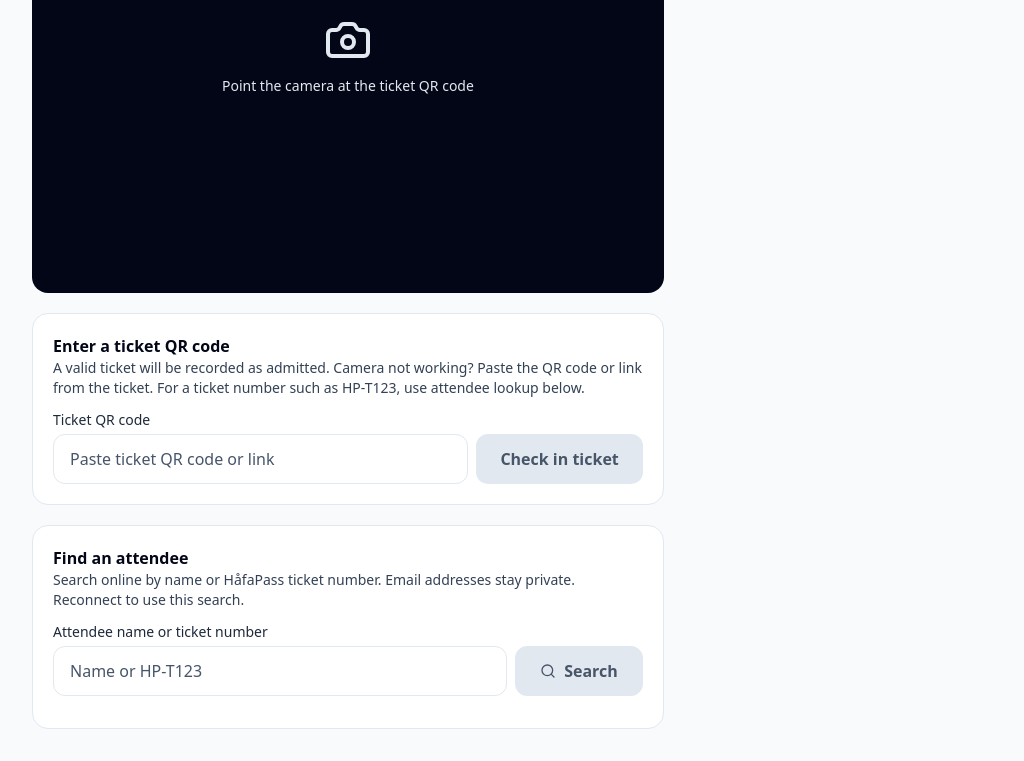
Test: scanner recovery and camera ownership › retains signed offline provisional admission without claiming a server acknowledgement
The image size is (1024, 761).
(page scrolled)
Step 1. Type "offline-qr" into the field labelled "Ticket QR code" → (261, 459), box [53,434,468,484]
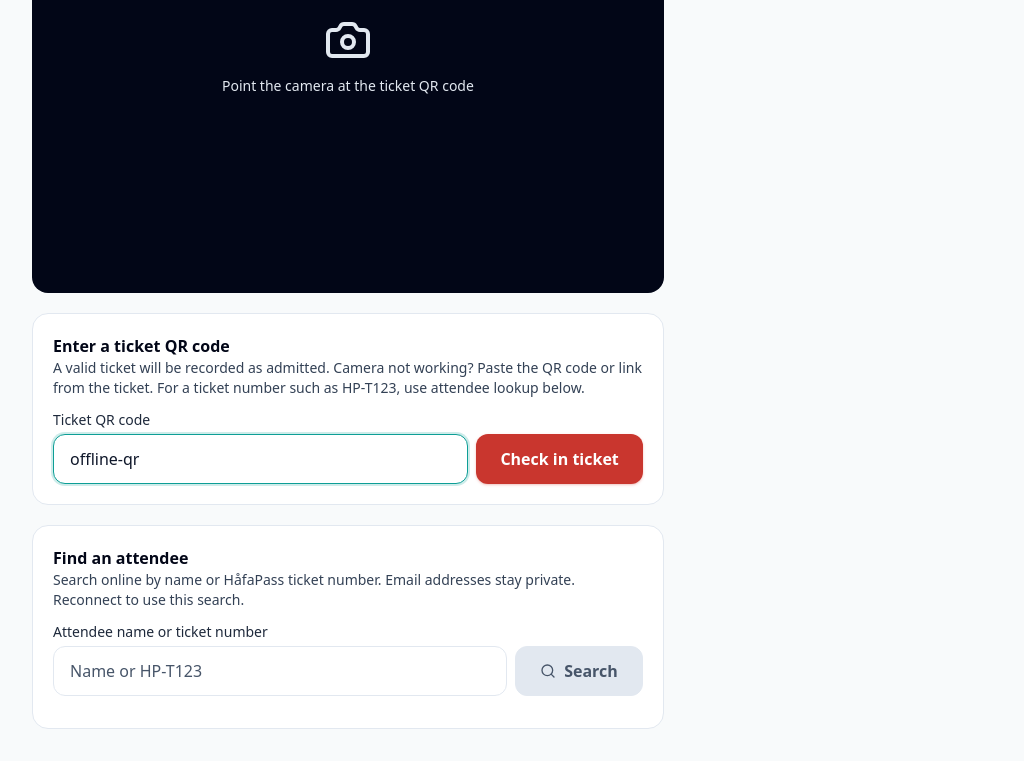
Step 2. Click the button "Check in ticket" → (560, 459), box [476,434,643,484]
(page scrolled)
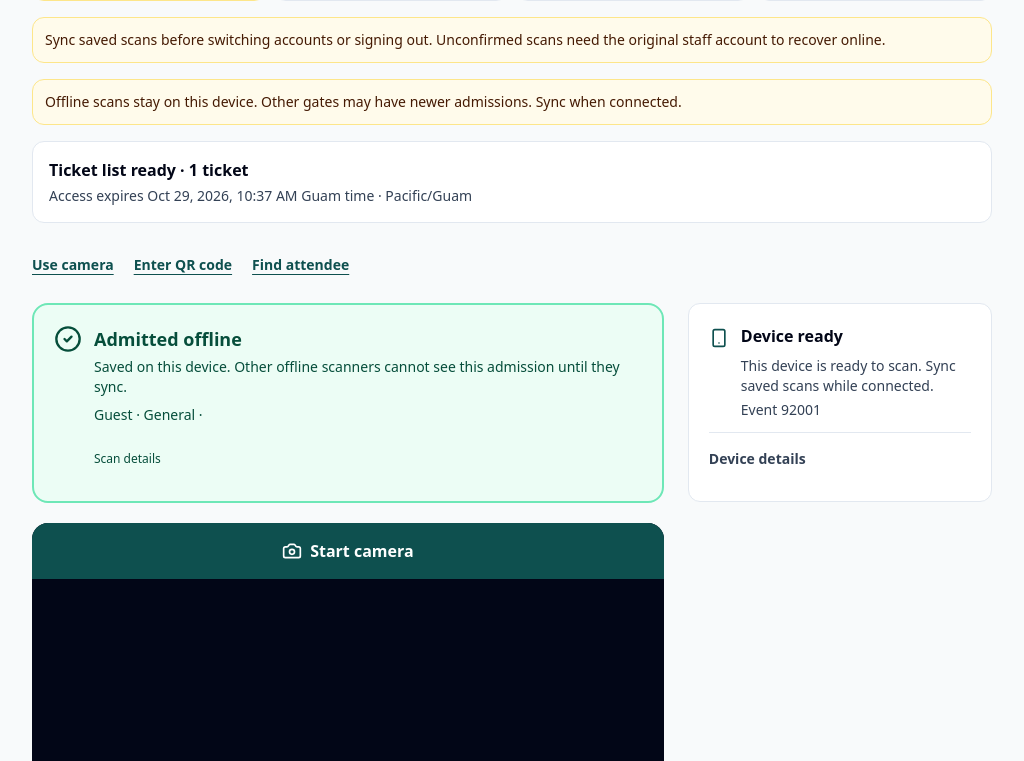
Expected: the text "Admitted offline" is shown, [94,327,242,351]
Expected: the text "Other offline scanners cannot see this admission until they sync" is shown, [94,357,620,396]
